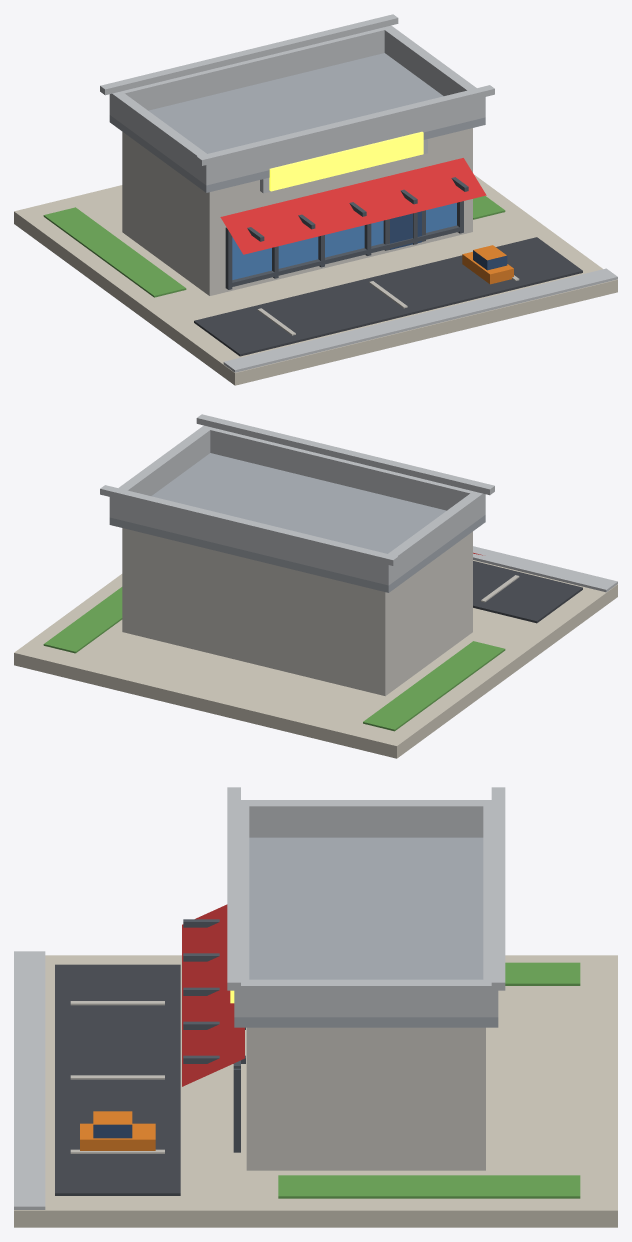
The picture shows the model from 3 angles, top to bottom: view 1: azimuth 30°, elevation 25°; view 2: azimuth 150°, elevation 25°; view 3: azimuth 270°, elevation 25°; orthographic projection. The views are drawn at different scales.
Visible parts, largest first — view 1: b11_v2_lod1; view 2: b11_v2_lod1; view 3: b11_v2_lod1.
Part boxes in pixels (x1=…): b11_v2_lod1: x1=14, y1=14, x2=617, y2=385; b11_v2_lod1: x1=14, y1=414, x2=617, y2=758; b11_v2_lod1: x1=14, y1=787, x2=617, y2=1227.
Size of the model in its own units: 0.96 by 0.377 by 0.96.
